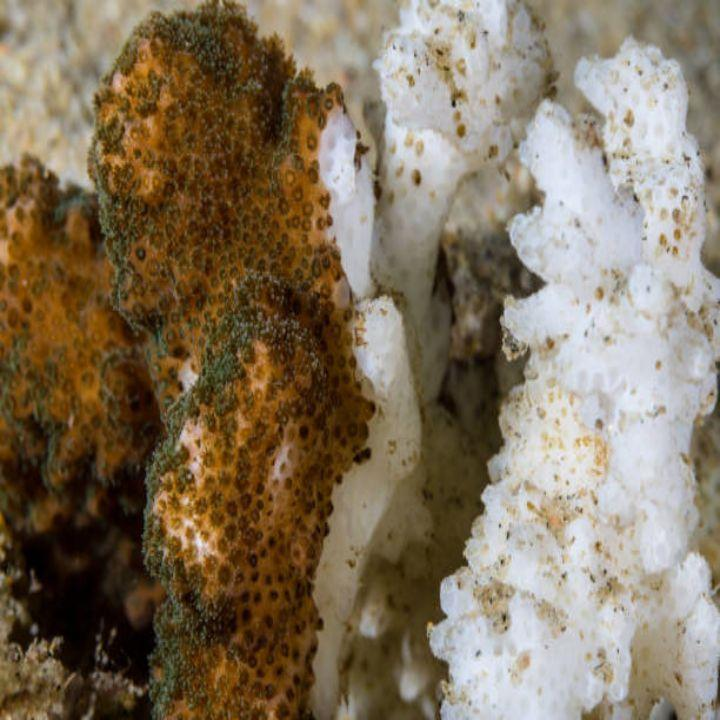Bleached-disease-White-Pox-Disea: (373, 0, 720, 720), (269, 373, 440, 720)
White-Pox-Disea: (0, 2, 369, 720)
